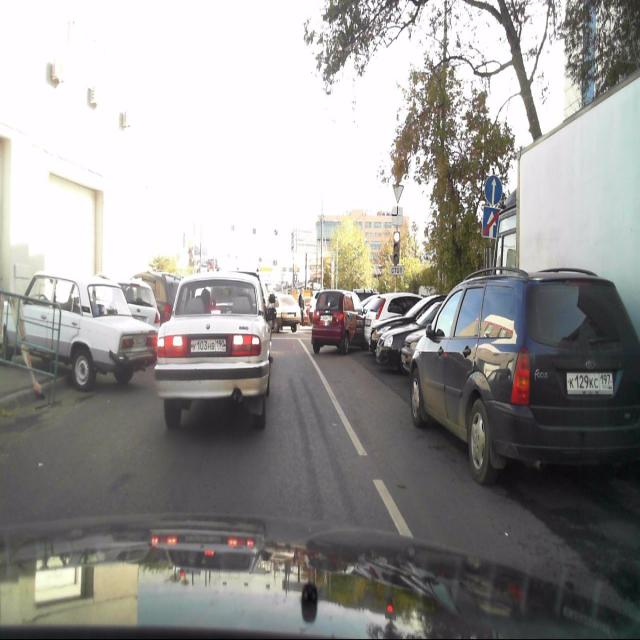road sign: (481, 207, 501, 238)
